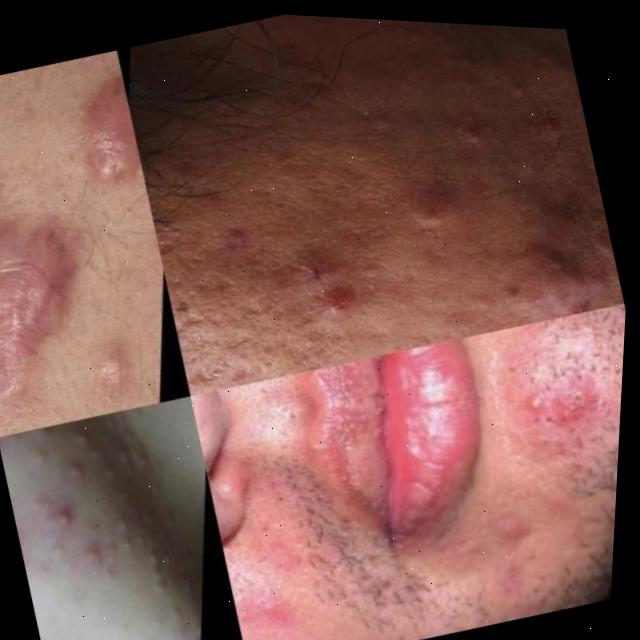Acne: (139, 66, 629, 394), (0, 92, 181, 403), (423, 334, 624, 601), (27, 466, 148, 629), (236, 561, 300, 640)
